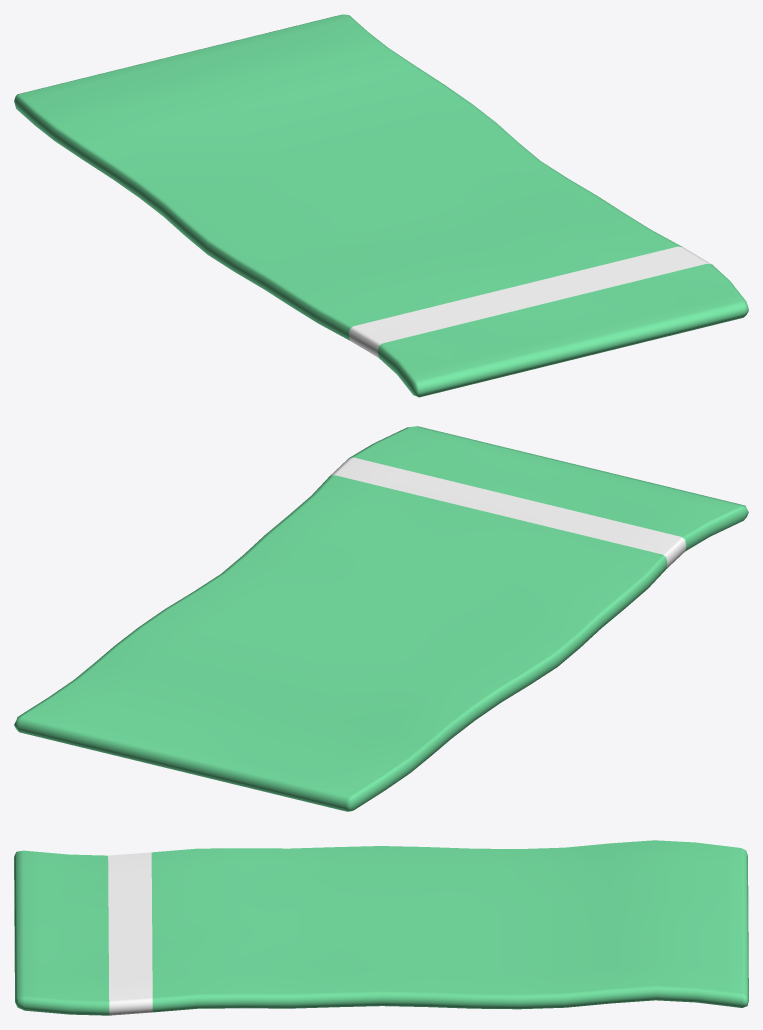
The model's file is Towel_Green.fbx.
The picture shows the model from 3 angles, top to bottom: view 1: azimuth 30°, elevation 25°; view 2: azimuth 150°, elevation 25°; view 3: azimuth 270°, elevation 25°; orthographic projection. The views are drawn at different scales.
Parts seen in each view (by area): view 1: Towel_Green; view 2: Towel_Green; view 3: Towel_Green.
Part boxes in pixels (bbox=[...]): Towel_Green: bbox=[14, 14, 748, 397]; Towel_Green: bbox=[14, 426, 748, 811]; Towel_Green: bbox=[14, 840, 748, 1015].
Bounding box in the file's own units: 126 × 6.77 × 242.
Materials: 1 (1 with a texture image).
